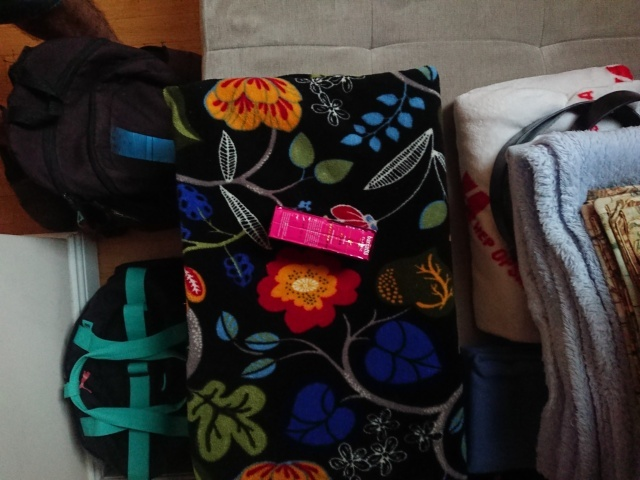Barcaffe Classic Original 225g: (266, 202, 378, 264)
